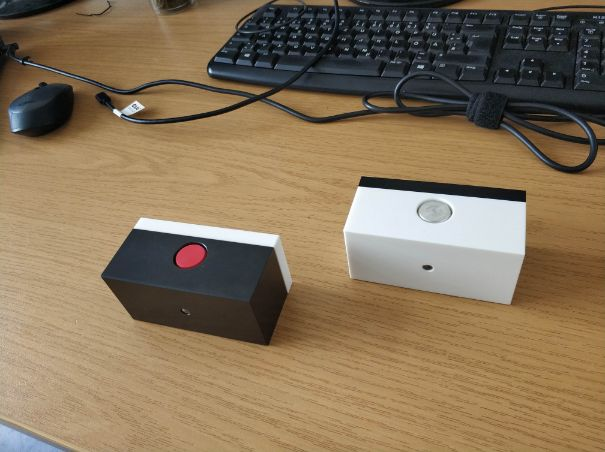black+white+silver: (341, 172, 531, 307)
white+black+red: (98, 216, 295, 348)
